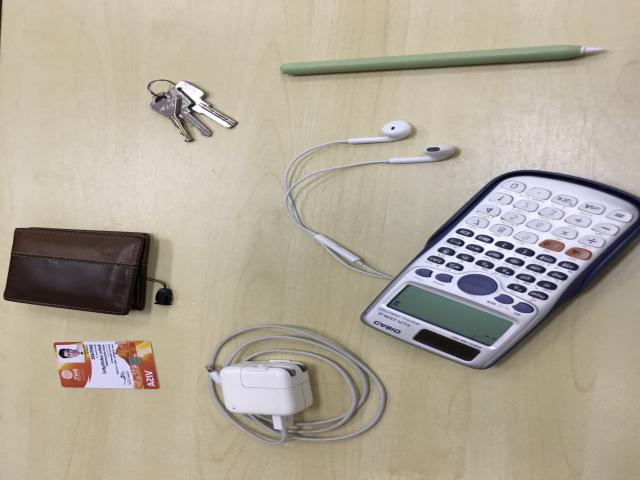Keys: (146, 79, 238, 143)
Wallet: (4, 228, 153, 318)
wire: (286, 123, 461, 276), (207, 325, 389, 445)
